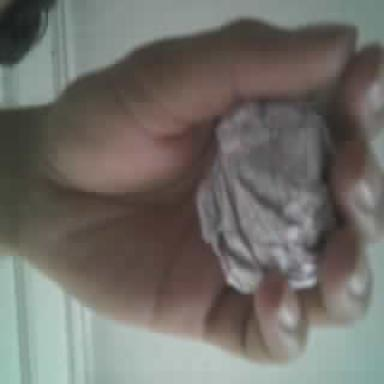paper: (198, 102, 335, 293)
